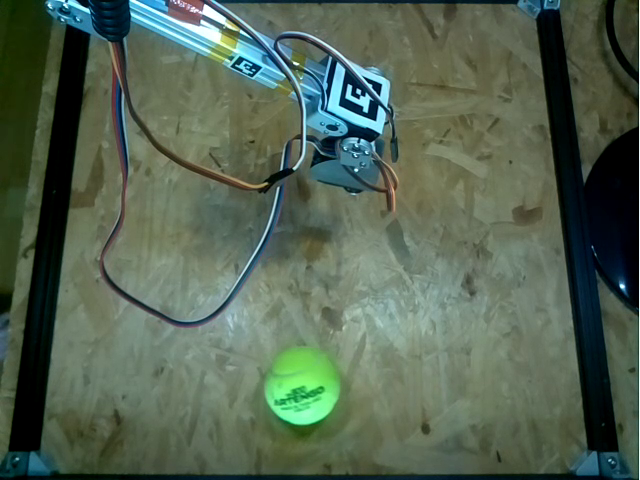tennis_ball: (263, 347, 340, 426)
